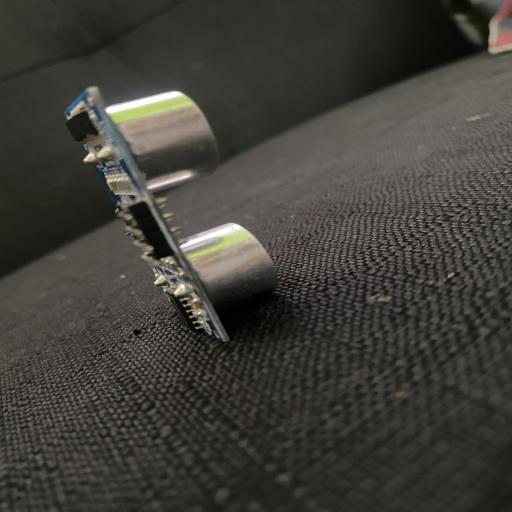Ultrasonic Sensor: (62, 86, 278, 342)
